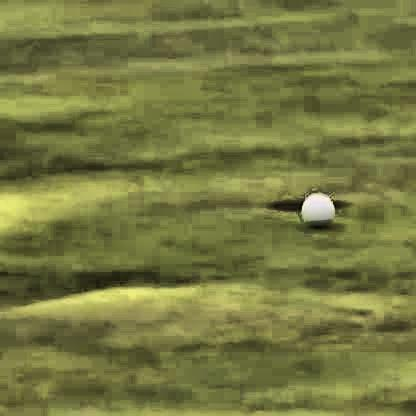golfball: (298, 186, 329, 222)
